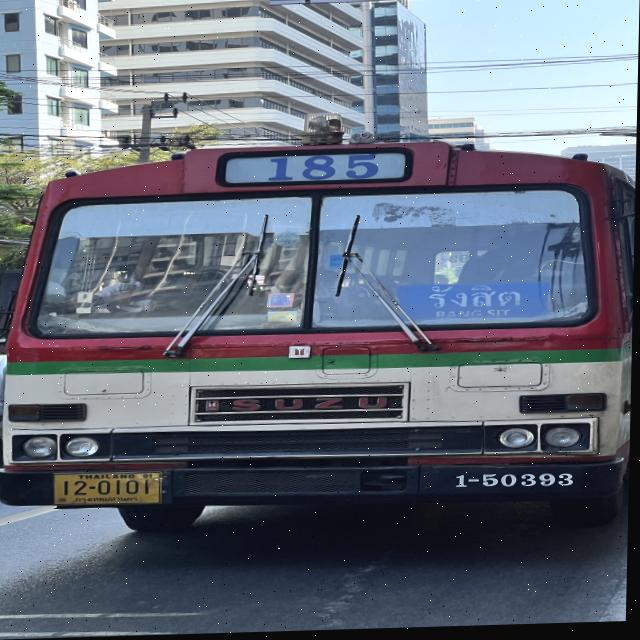BMTA-bus: (0, 136, 637, 546)
Bus-Line-Number: (220, 151, 408, 190)
Destination-Sign-Normal: (394, 284, 554, 327)
